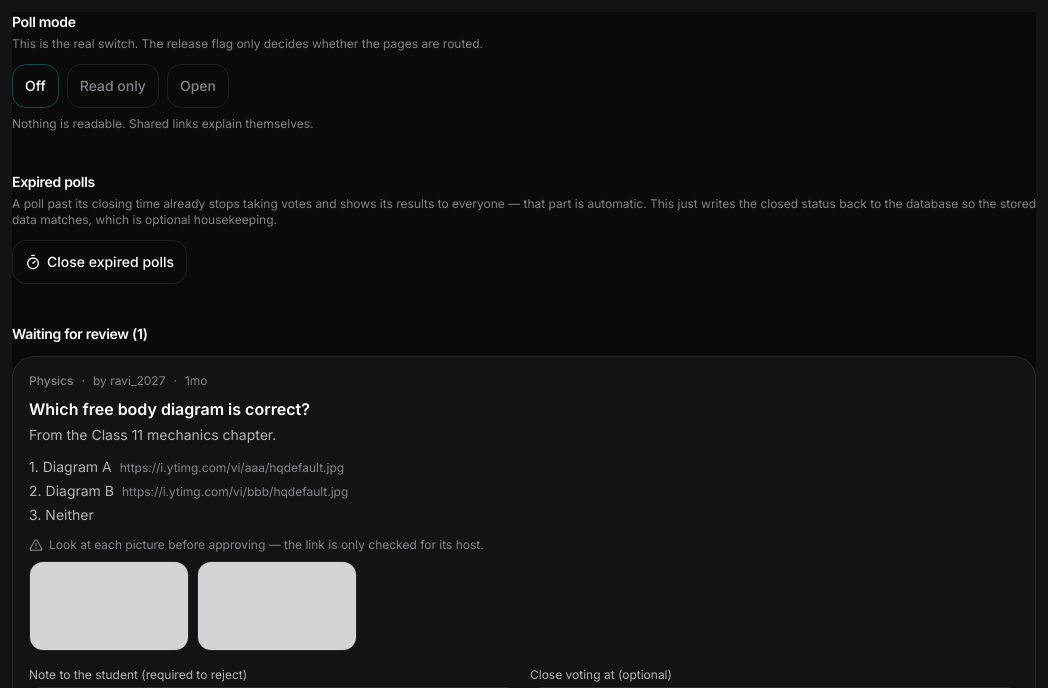
expired polls › reports how many it closed, and which
Click the button "Close expired polls". click: [100, 262]
box: [12,240,187,284]
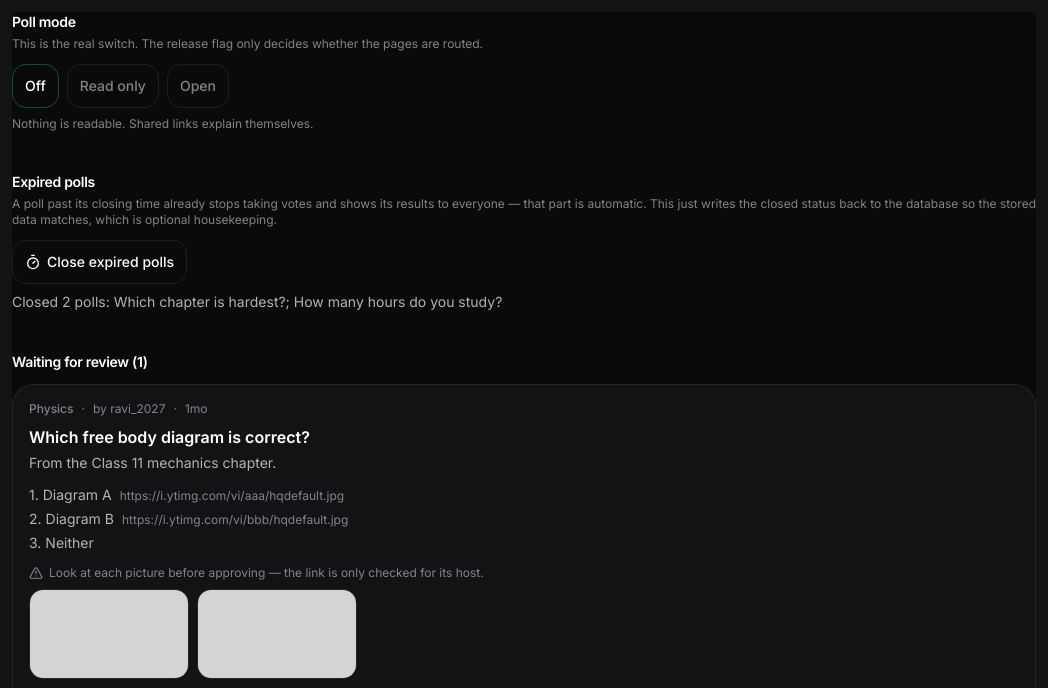
Expected: the text "Closed 2 polls: Which chapter is hardest?; How many hours do you study?" is shown, [12,293,502,310]
